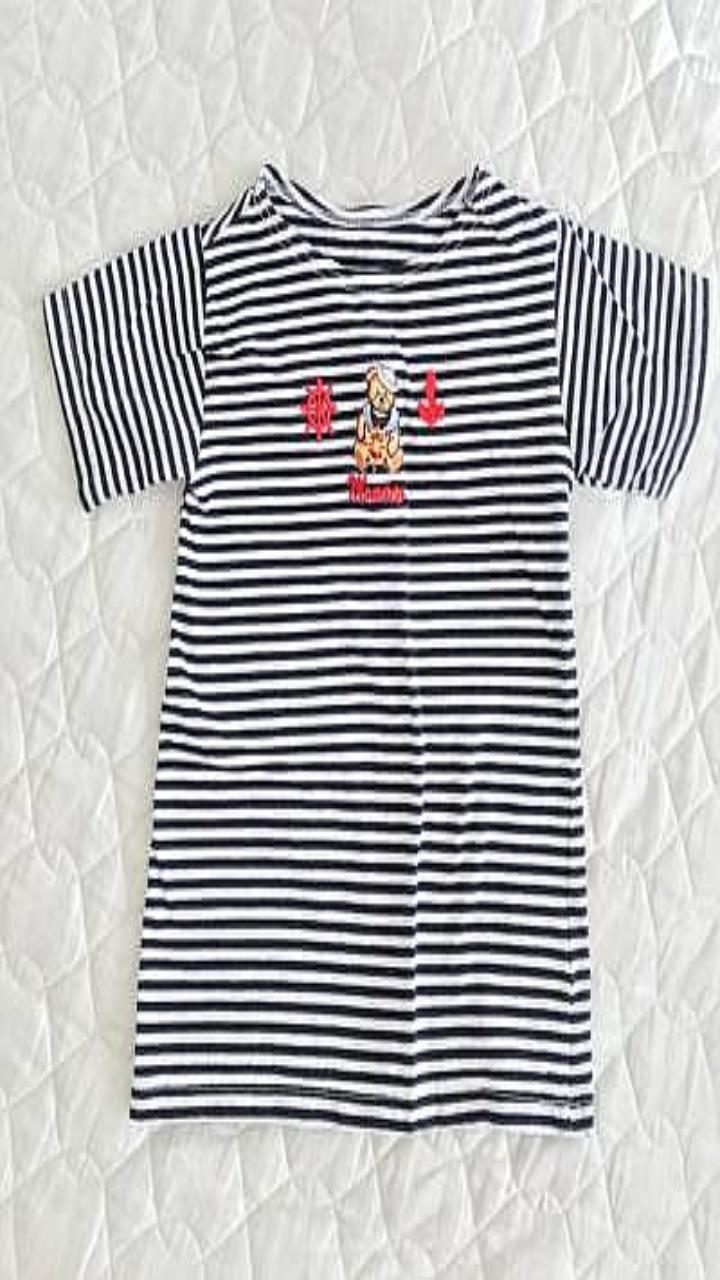T-Shirt: (43, 163, 708, 1129)
